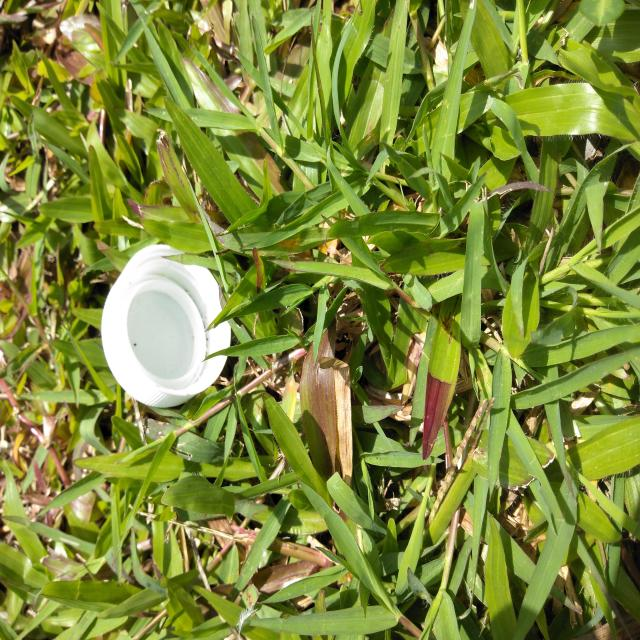litter: (100, 245, 231, 410)
